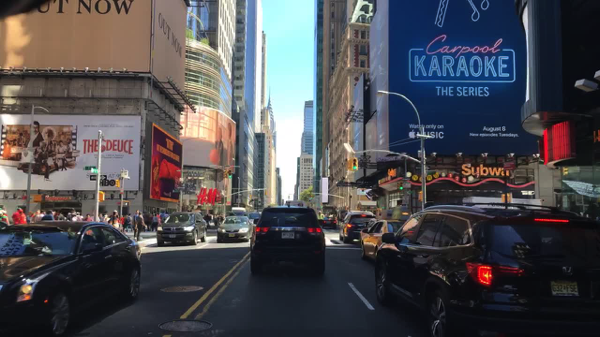car: (374, 203, 599, 337), (1, 223, 143, 336), (249, 204, 326, 279), (358, 217, 410, 263), (155, 210, 207, 245), (339, 212, 376, 243), (217, 215, 251, 242), (322, 215, 337, 229), (229, 210, 248, 216), (249, 212, 259, 222), (230, 206, 245, 211)
person: (132, 210, 140, 239), (135, 211, 143, 240), (0, 205, 10, 226), (109, 210, 119, 228), (125, 211, 133, 232), (40, 210, 56, 220), (12, 206, 21, 223), (30, 207, 39, 224), (35, 209, 44, 224), (17, 209, 25, 223), (72, 211, 84, 220), (153, 213, 158, 231), (120, 213, 125, 231), (68, 206, 75, 218), (147, 213, 152, 229), (142, 211, 147, 227), (58, 211, 66, 220), (214, 213, 219, 227), (206, 212, 211, 226), (159, 211, 164, 224), (83, 213, 92, 220), (102, 211, 108, 221), (96, 211, 101, 222), (164, 211, 169, 221), (220, 214, 223, 224)
traffic light: (352, 157, 358, 170), (346, 158, 351, 169), (418, 191, 423, 202), (100, 193, 105, 203), (115, 177, 120, 187), (124, 199, 130, 206), (228, 169, 232, 179), (223, 170, 228, 178), (399, 183, 403, 192), (564, 167, 568, 175)
traffic sign: (500, 193, 512, 203), (91, 174, 105, 181), (91, 168, 99, 174)
